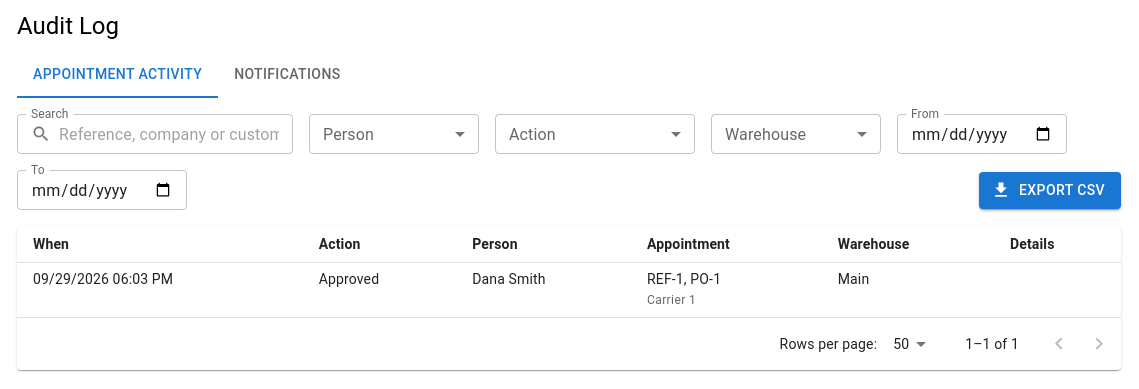
Test case: Export CSV › shows an error when the export fails
Click the button "Export CSV": x=1050, y=190 [979, 172, 1121, 209]
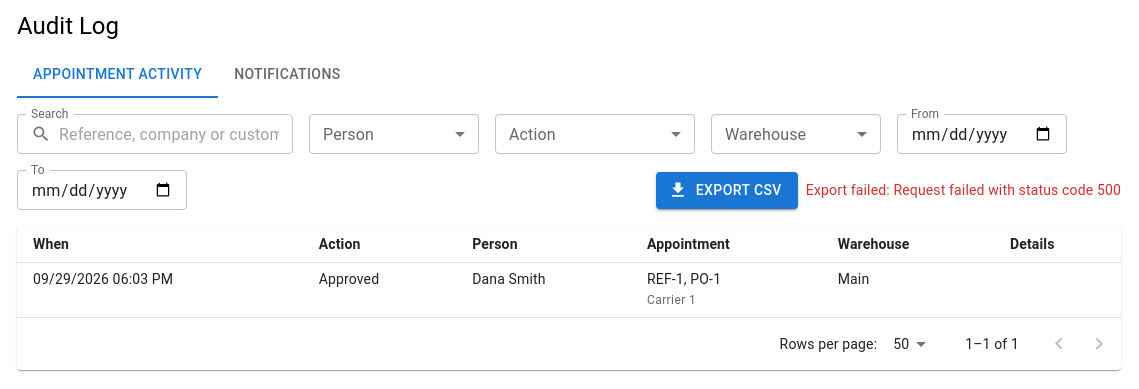
Check: the message shows "Export failed", box [806, 182, 893, 198]
